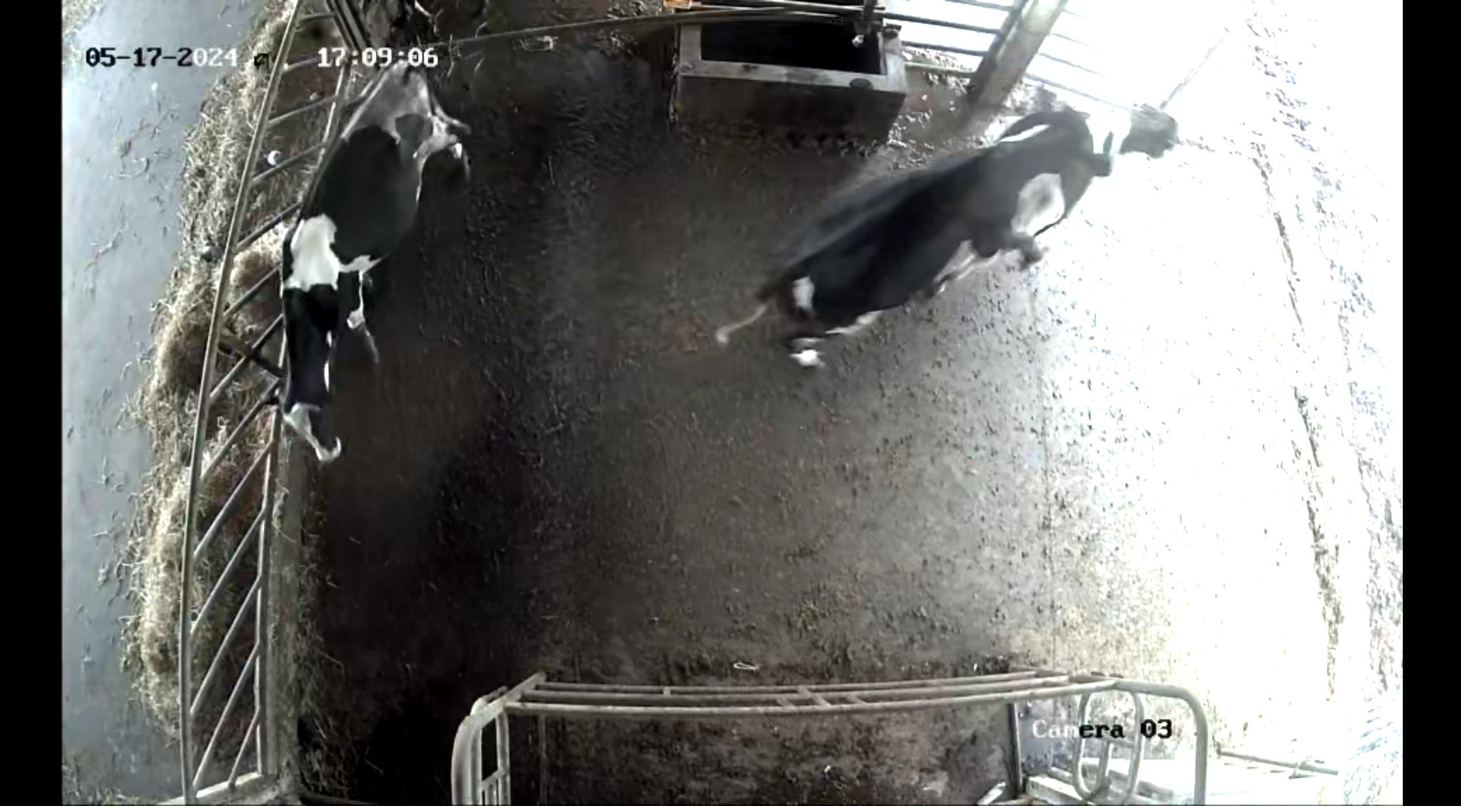ride: (739, 105, 1103, 397)
stand: (268, 51, 491, 492), (983, 79, 1178, 315)
